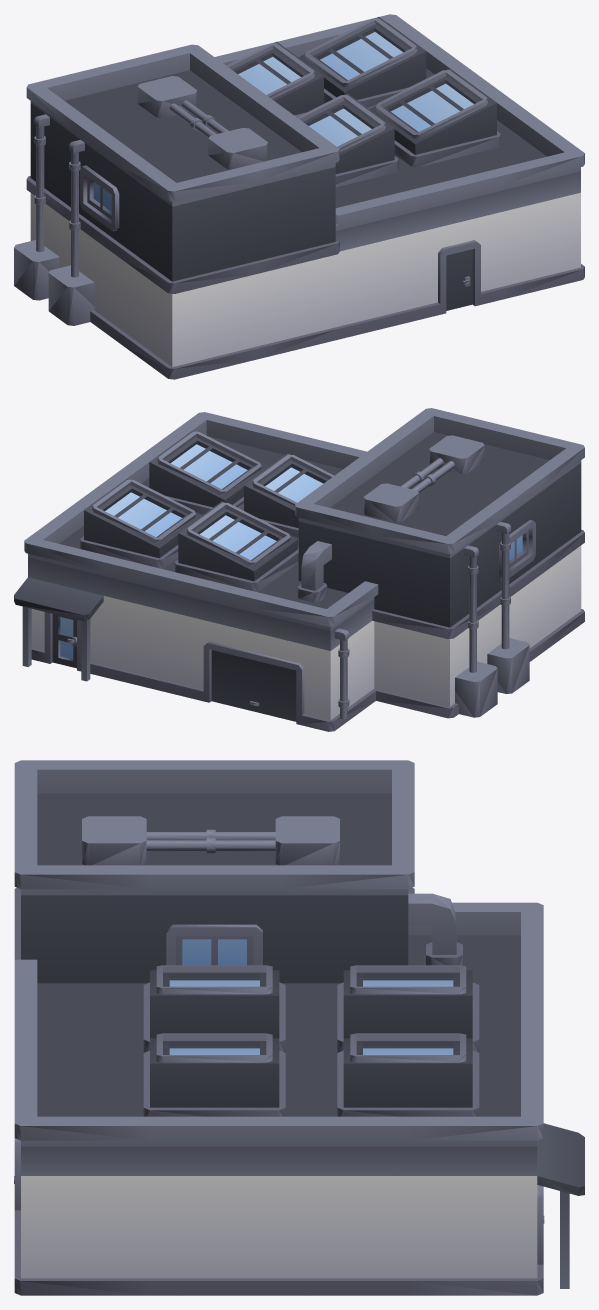
Rendered from ki_building_q.fbx.
The picture shows the model from 3 angles, top to bottom: view 1: azimuth 30°, elevation 25°; view 2: azimuth 150°, elevation 25°; view 3: azimuth 270°, elevation 25°; orthographic projection. The views are drawn at different scales.
Parts seen in each view (by area): view 1: ki_building_q_LOD0; view 2: ki_building_q_LOD0; view 3: ki_building_q_LOD0.
Boxes of the visible parts, x1,y1,x2,y2 form: ki_building_q_LOD0: (14, 14, 584, 379); ki_building_q_LOD0: (14, 408, 584, 731); ki_building_q_LOD0: (14, 760, 584, 1295).
Size of what is drawn, in the model's own units: 18.19 by 7.48 by 15.04.
